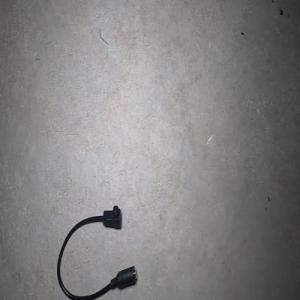Wire: (56, 205, 137, 300)
